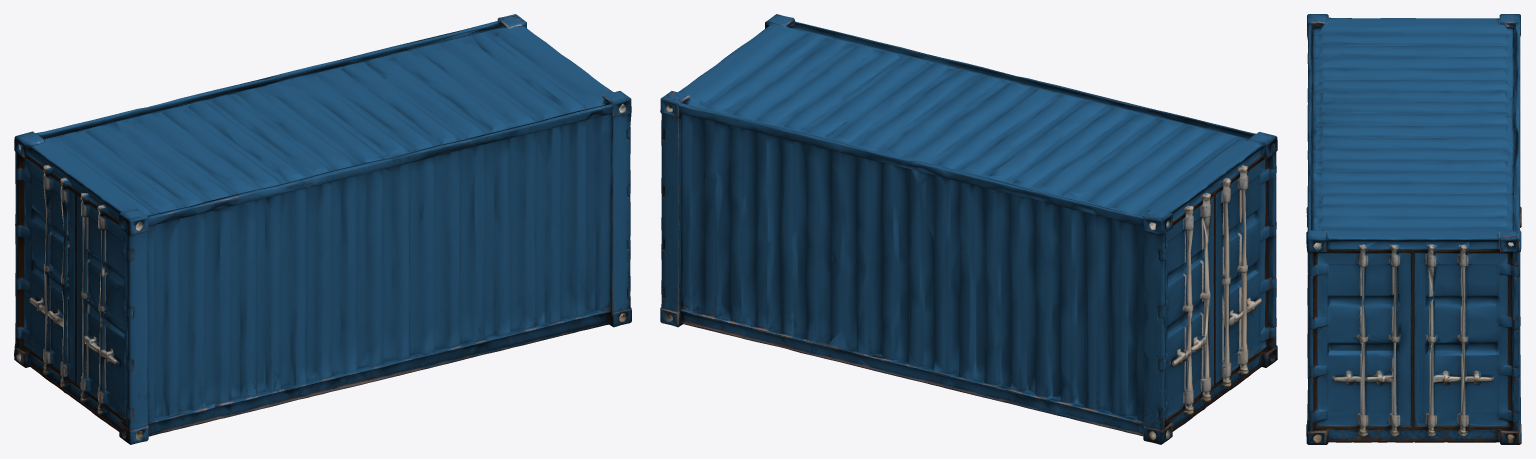
The model's file is container-20ft.glb.
The picture shows the model from 3 angles, left to right: view 1: azimuth 30°, elevation 25°; view 2: azimuth 150°, elevation 25°; view 3: azimuth 270°, elevation 25°; orthographic projection. The views are drawn at different scales.
Visible parts, largest first — view 1: container-20ft; view 2: container-20ft; view 3: container-20ft.
Boxes of the visible parts, x1=… form: container-20ft: x1=14, y1=14, x2=631, y2=444; container-20ft: x1=660, y1=14, x2=1277, y2=444; container-20ft: x1=1306, y1=14, x2=1521, y2=444.
Bounding box in the file's own units: 6.06 × 2.59 × 2.44.
1 material, 1 textured.
